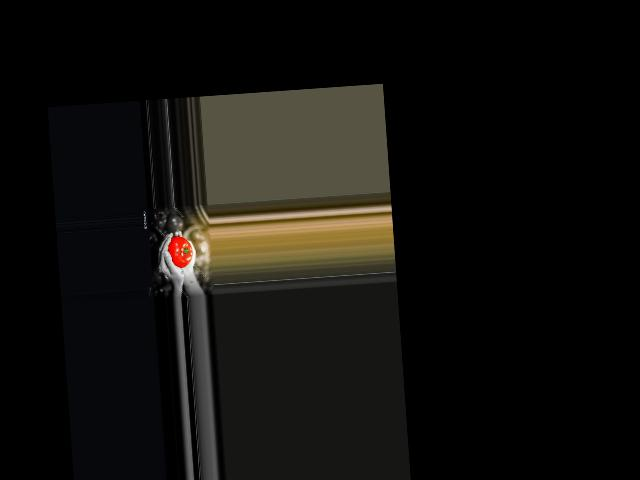tomato: (166, 235, 193, 269)
